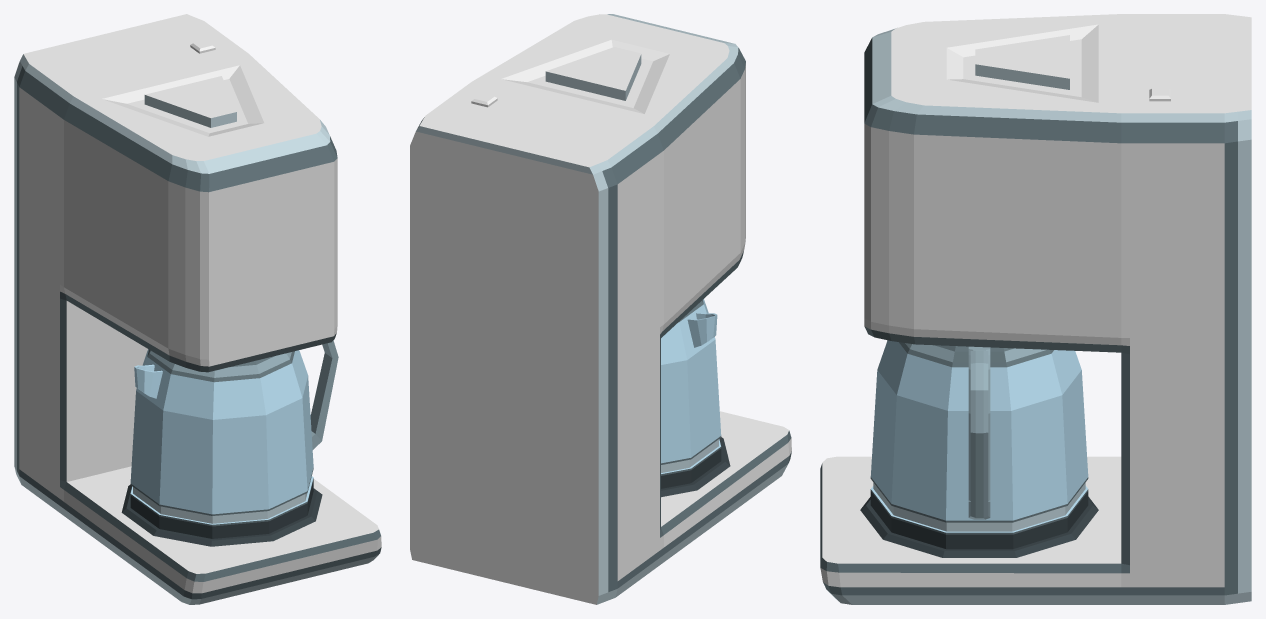
The model's file is KA_CoffeeMaker_V1.fbx.
The picture shows the model from 3 angles, left to right: view 1: azimuth 30°, elevation 25°; view 2: azimuth 150°, elevation 25°; view 3: azimuth 270°, elevation 25°; orthographic projection. The views are drawn at different scales.
Visible parts, largest first — view 1: KA_CoffeeMaker_V1, KA_CoffeeMaker_V1_Pot; view 2: KA_CoffeeMaker_V1, KA_CoffeeMaker_V1_Pot; view 3: KA_CoffeeMaker_V1, KA_CoffeeMaker_V1_Pot.
Part boxes in pixels (x1=…): KA_CoffeeMaker_V1: x1=14, y1=14, x2=381, y2=604; KA_CoffeeMaker_V1_Pot: x1=130, y1=340, x2=338, y2=538; KA_CoffeeMaker_V1: x1=410, y1=14, x2=791, y2=604; KA_CoffeeMaker_V1_Pot: x1=661, y1=299, x2=721, y2=488; KA_CoffeeMaker_V1: x1=820, y1=14, x2=1251, y2=604; KA_CoffeeMaker_V1_Pot: x1=870, y1=340, x2=1088, y2=549.
Size of the model in its own units: 17.57 by 33.83 by 26.76.
